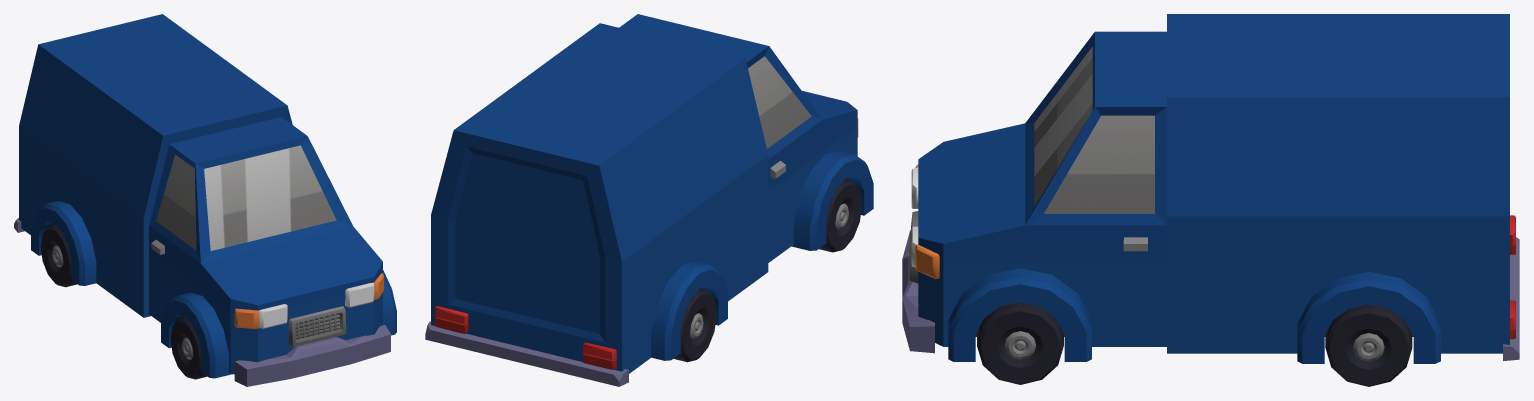
Rendered from Van_4.glb.
3 views of the same model, side by side, from view 1: azimuth 30°, elevation 25°; view 2: azimuth 150°, elevation 25°; view 3: azimuth 270°, elevation 25° (orthographic). The views are drawn at different scales.
Parts seen in each view (by area): view 1: Van_4, wheel_FR, wheel_BR; view 2: Van_4, wheel_BR, wheel_FR; view 3: Van_4, wheel_BL, wheel_FL.
Boxes of the visible parts, x1=… form: Van_4: x1=14, y1=14, x2=396, y2=386; wheel_FR: x1=170, y1=317, x2=207, y2=379; wheel_BR: x1=40, y1=224, x2=77, y2=287; Van_4: x1=425, y1=14, x2=873, y2=386; wheel_BR: x1=673, y1=289, x2=716, y2=362; wheel_FR: x1=819, y1=179, x2=861, y2=252; Van_4: x1=902, y1=14, x2=1519, y2=363; wheel_BL: x1=1325, y1=304, x2=1412, y2=386; wheel_FL: x1=977, y1=302, x2=1063, y2=384.
Size of the model in its own units: 1.23 by 1.19 by 2.48.
Materials: 5 (5 with a texture image).
